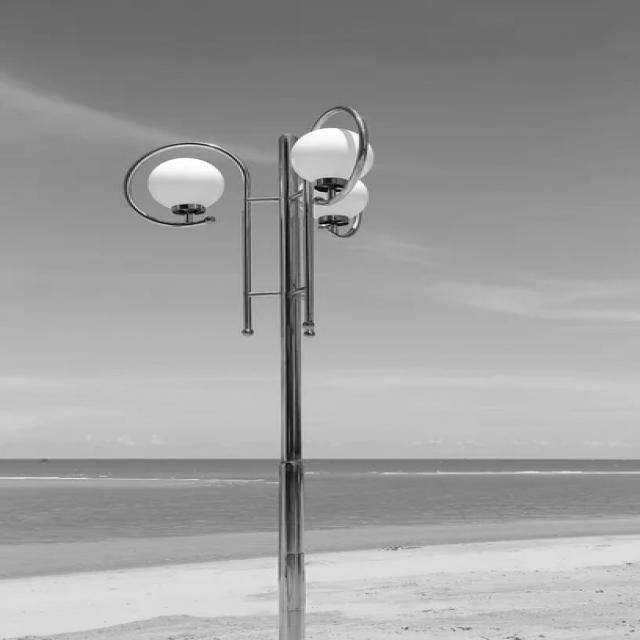Pole: (278, 135, 306, 640)
